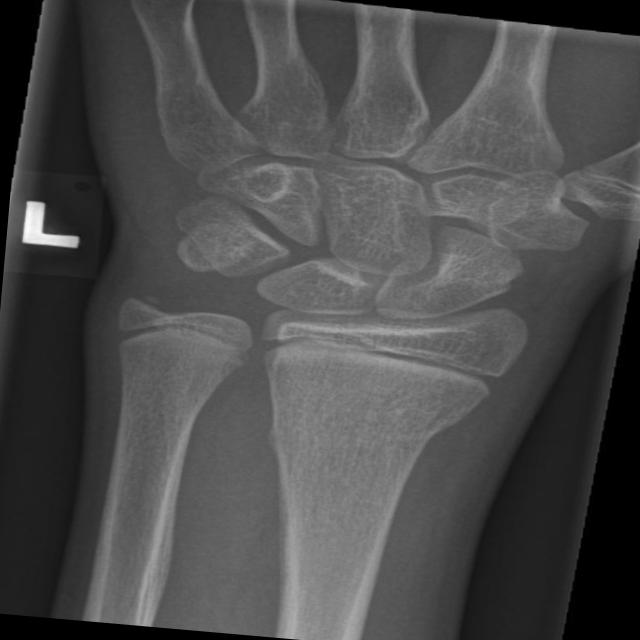fracture: (238, 309, 531, 406), (98, 298, 270, 368)
